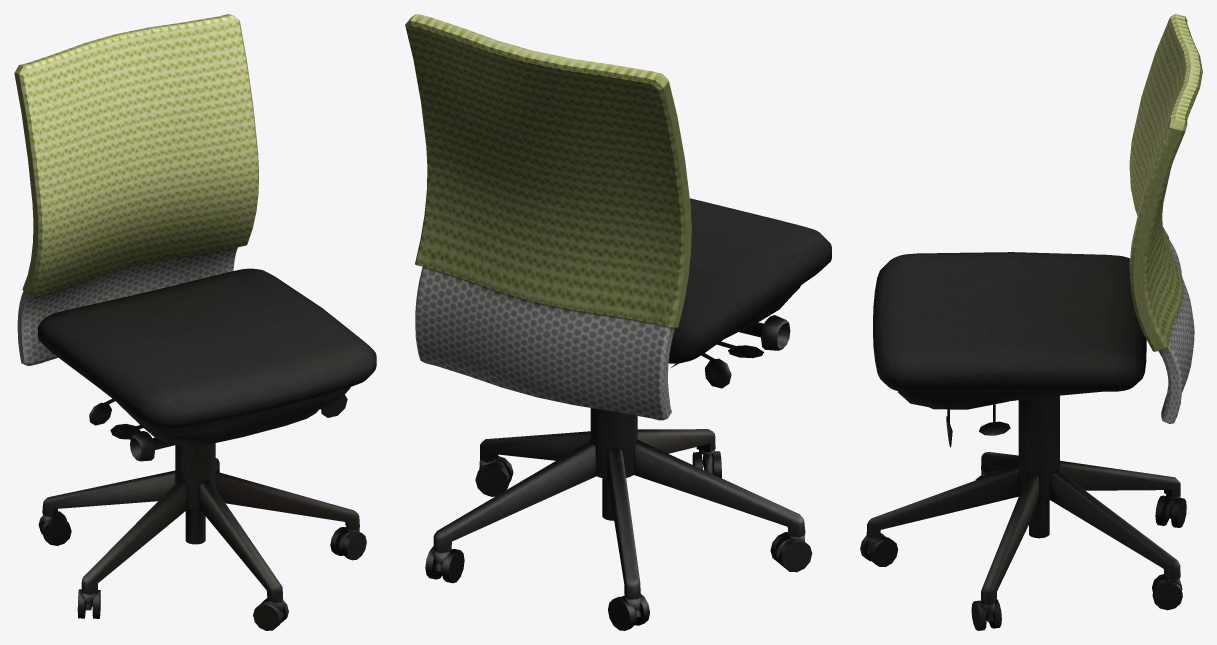
3 renders of one model, left to right at view 1: azimuth 30°, elevation 25°; view 2: azimuth 150°, elevation 25°; view 3: azimuth 270°, elevation 25°, orthographic. The views are drawn at different scales.
Visible parts, largest first — view 1: solid; view 2: solid; view 3: solid.
Part boxes in pixels (<box>): solid: <box>14,14,376,630</box>; solid: <box>405,14,831,630</box>; solid: <box>860,14,1202,630</box>.
Bounding box in the file's own units: 0.9492 × 1.52 × 0.9531.
1 material, 1 textured.
